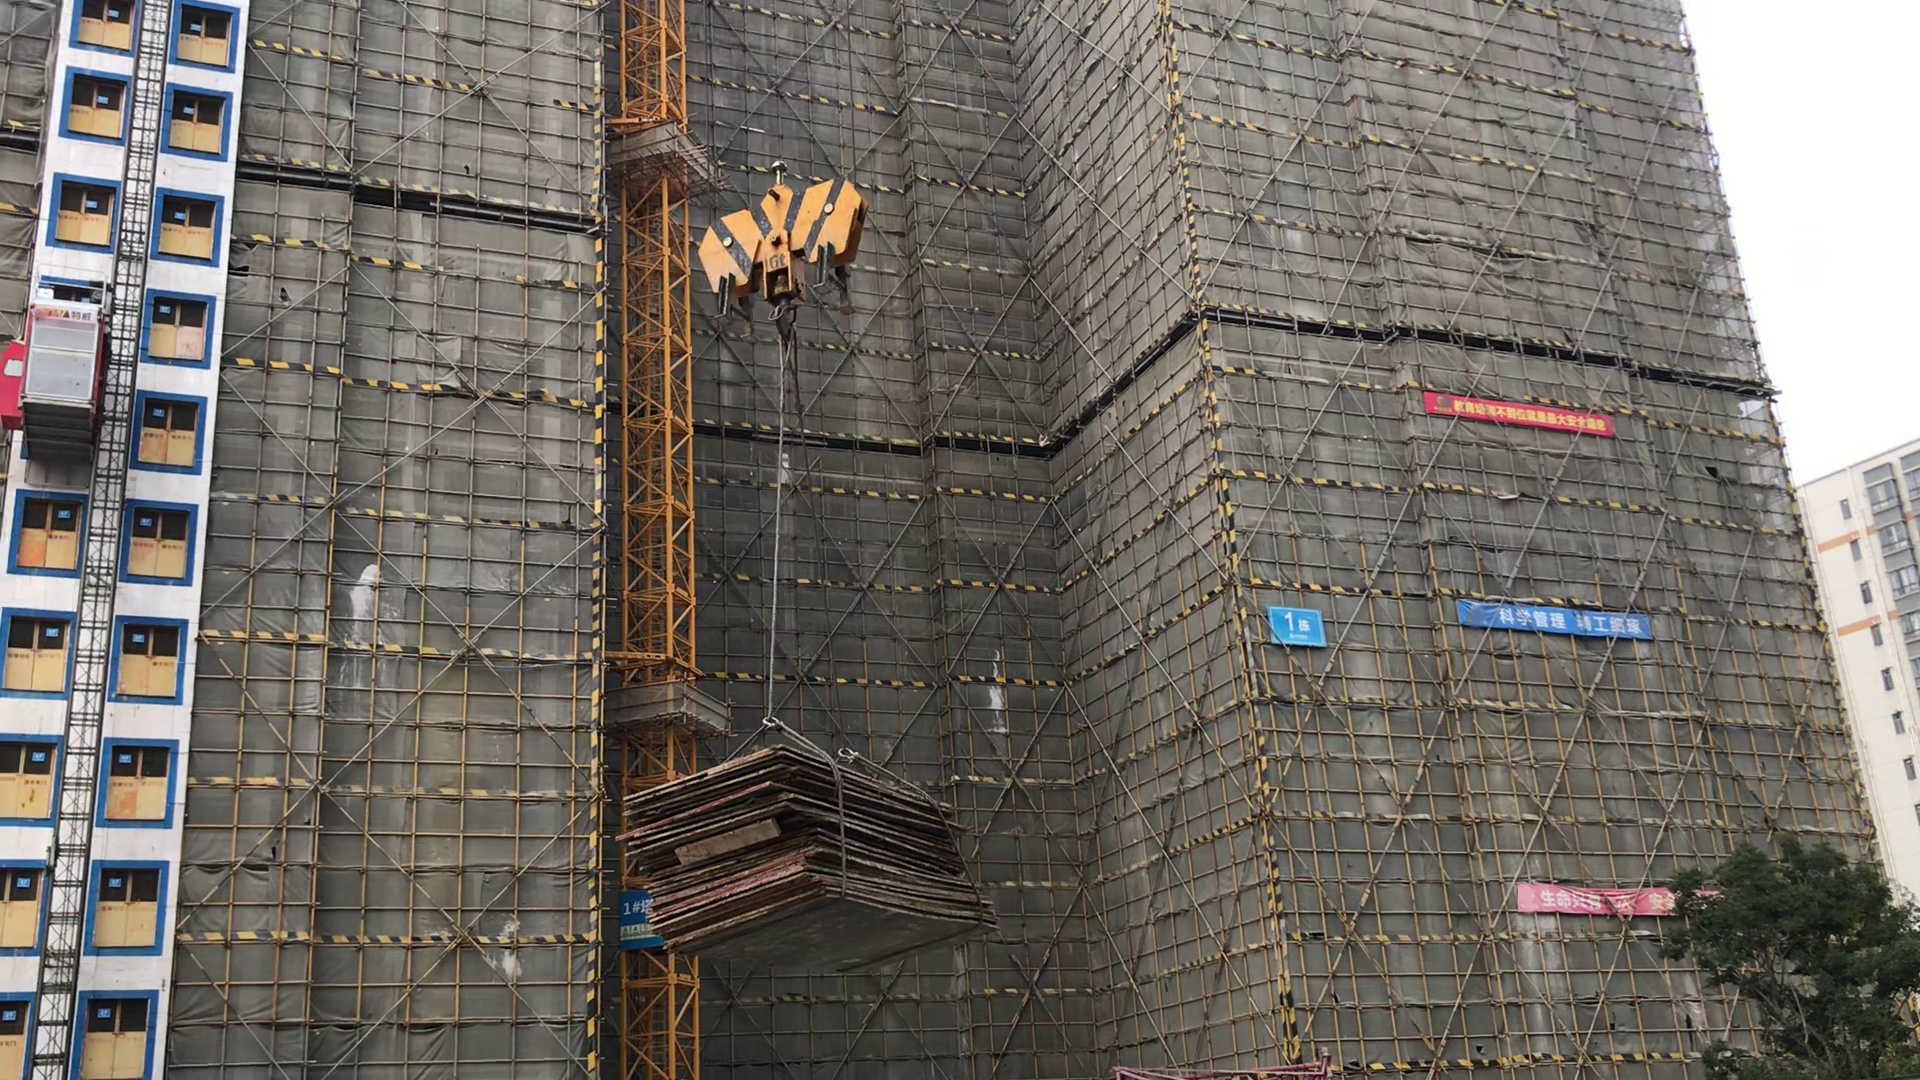board: (621, 740, 998, 982)
hook: (698, 181, 865, 342)
slogan: (1456, 593, 1648, 640), (1423, 390, 1615, 433), (1513, 877, 1724, 913)
